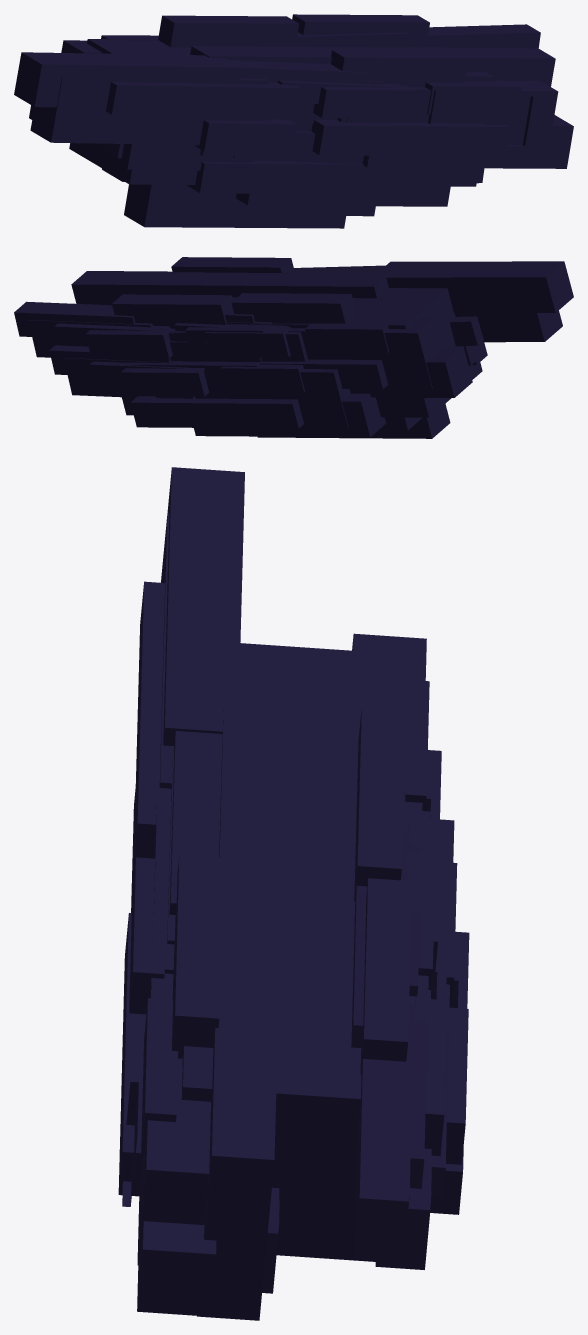
File: DesertBuilding.fbx
3 renders of one model, top to bottom at view 1: azimuth 30°, elevation 25°; view 2: azimuth 150°, elevation 25°; view 3: azimuth 270°, elevation 25°, orthographic. The views are drawn at different scales.
Visible parts, largest first — view 1: Cube.030; view 2: Cube.030; view 3: Cube.030.
Boxes of the visible parts, <box> form: Cube.030: <box>14,14,573,228</box>; Cube.030: <box>14,257,573,438</box>; Cube.030: <box>118,467,469,1320</box>.
Bounding box in the file's own units: 1361 × 583 × 414.
